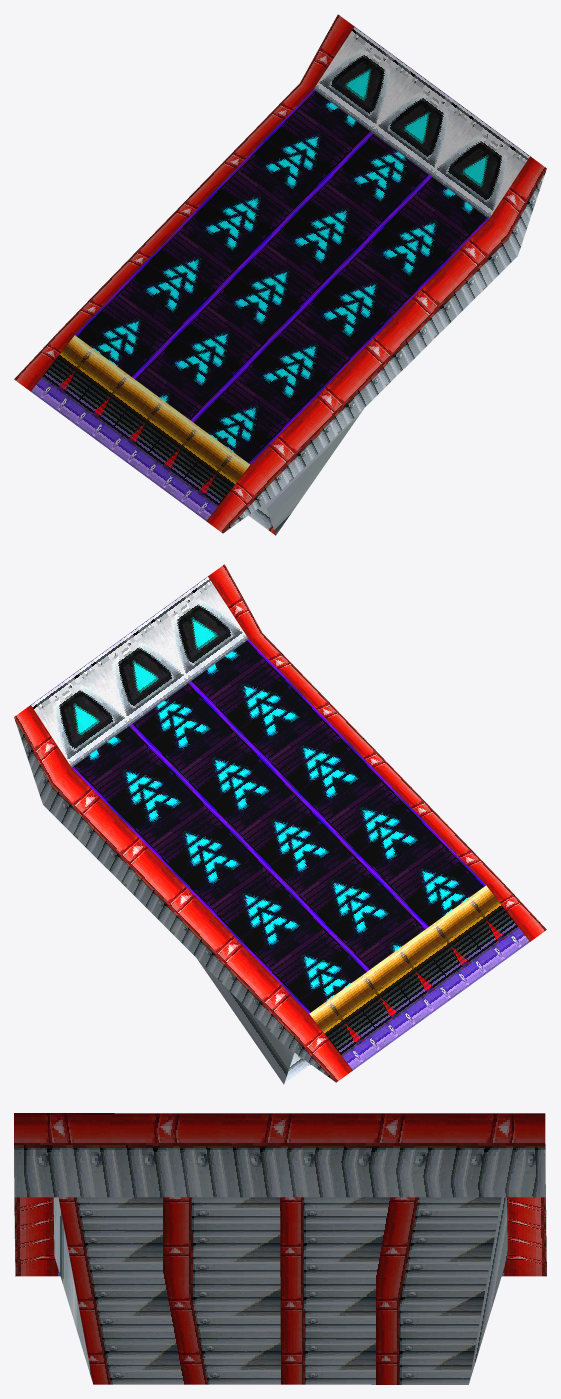
File: ramp.glb
3 renders of one model, top to bottom at view 1: azimuth 30°, elevation 25°; view 2: azimuth 150°, elevation 25°; view 3: azimuth 270°, elevation 25°, orthographic. The views are drawn at different scales.
Parts seen in each view (by area): view 1: Object_2, Object_3, Object_4; view 2: Object_2, Object_3, Object_4; view 3: Object_4.
Part boxes in pixels (x1=…): Object_2: x1=75, y1=89, x2=488, y2=464; Object_3: x1=31, y1=27, x2=529, y2=520; Object_4: x1=14, y1=14, x2=546, y2=535; Object_2: x1=72, y1=639, x2=485, y2=1013; Object_3: x1=31, y1=576, x2=529, y2=1070; Object_4: x1=14, y1=564, x2=546, y2=1084; Object_4: x1=14, y1=1113, x2=546, y2=1384.
Bounding box in the file's own units: 44.58 × 43.61 × 50.15.
3 materials, 3 textured.
